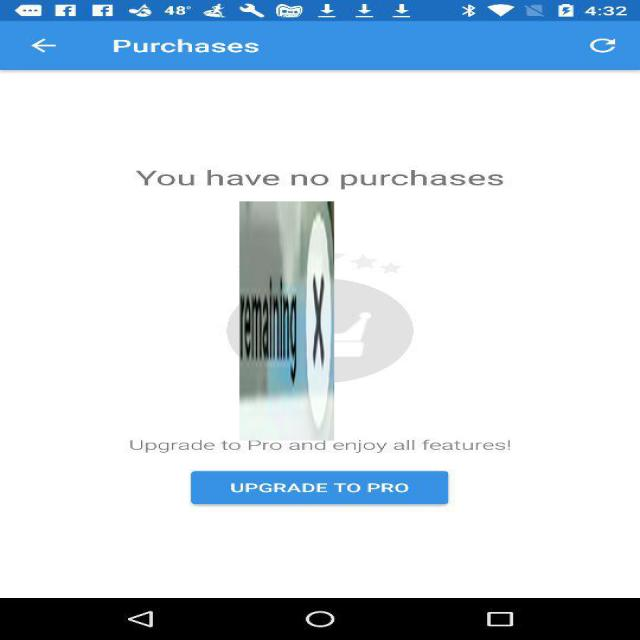misdirection: (240, 201, 334, 441)
